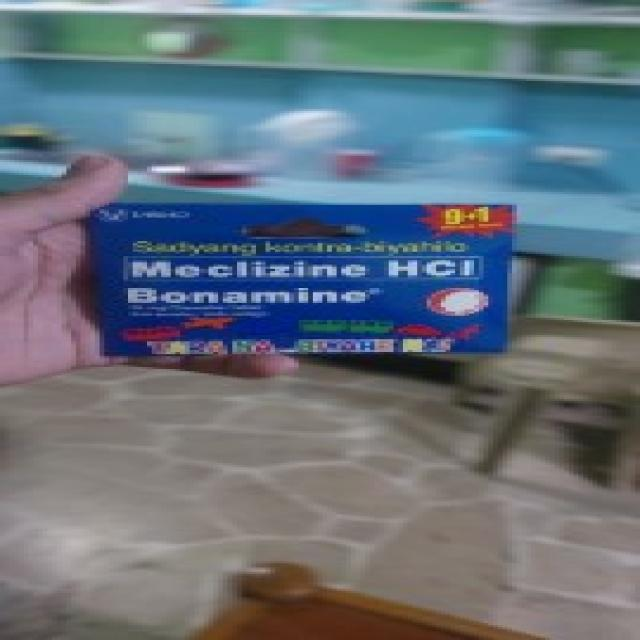Cacat: (90, 204, 522, 357)
